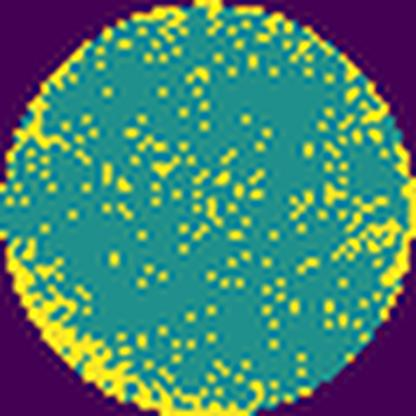Edge-Loc: (0, 229, 253, 416), (385, 145, 416, 286)
